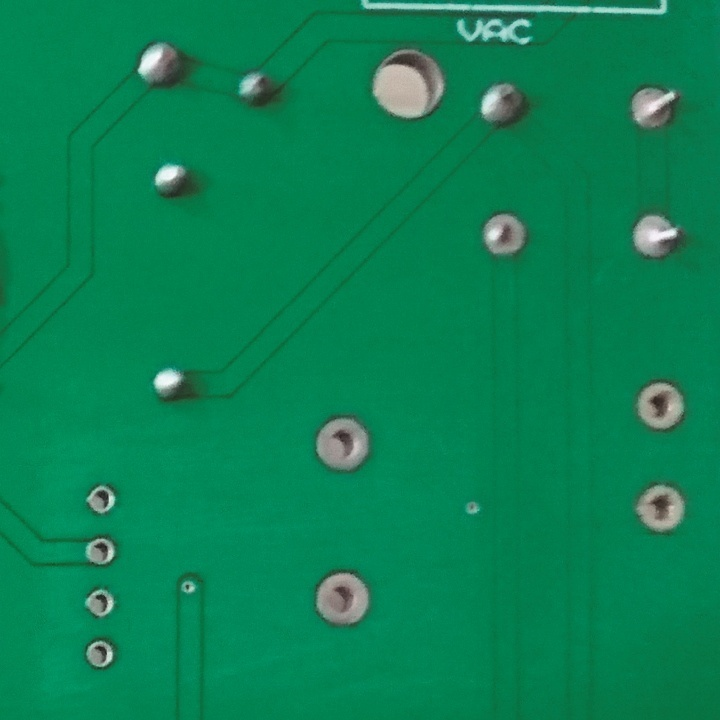F: (307, 565, 371, 629), (311, 412, 373, 472), (628, 210, 690, 263), (635, 376, 687, 435), (627, 80, 684, 132), (635, 481, 686, 535), (480, 207, 529, 260), (83, 481, 119, 520), (83, 536, 119, 569), (83, 638, 117, 672), (84, 586, 116, 619)
